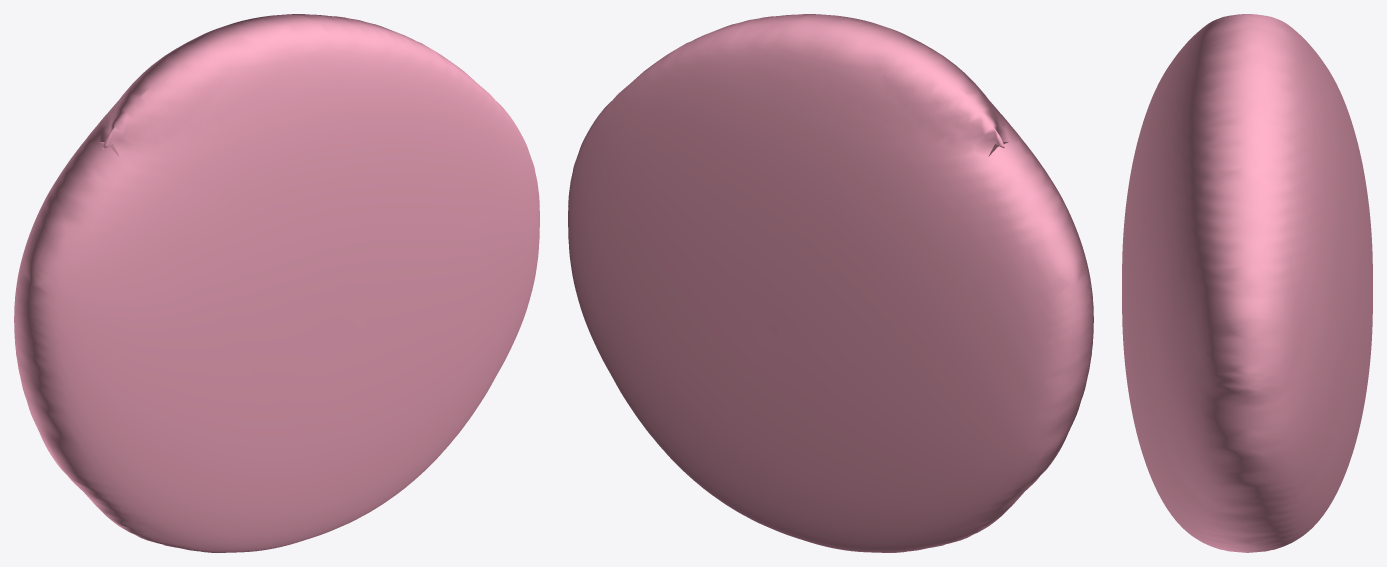
The model's file is Disc_0.fbx.
3 views of the same model, side by side, from view 1: azimuth 30°, elevation 25°; view 2: azimuth 150°, elevation 25°; view 3: azimuth 270°, elevation 25° (orthographic). The views are drawn at different scales.
Visible parts, largest first — view 1: root; view 2: root; view 3: root.
Part boxes in pixels (x1=…): root: x1=14, y1=14, x2=539, y2=552; root: x1=568, y1=14, x2=1093, y2=552; root: x1=1122, y1=14, x2=1372, y2=552.
Bounding box in the file's own units: 0.5003 × 0.4849 × 0.2271.
